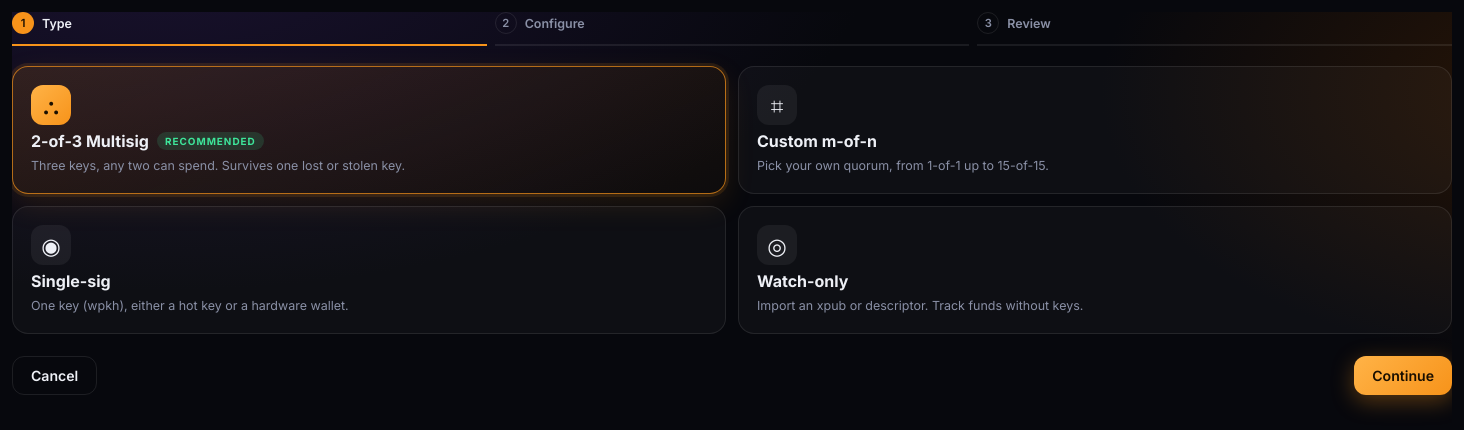
Test: CreateWalletWizard › watch-only detects descriptor vs xpub
Click the radio button with test id "type-watchonly": (777, 245) [738,206,1452,334]
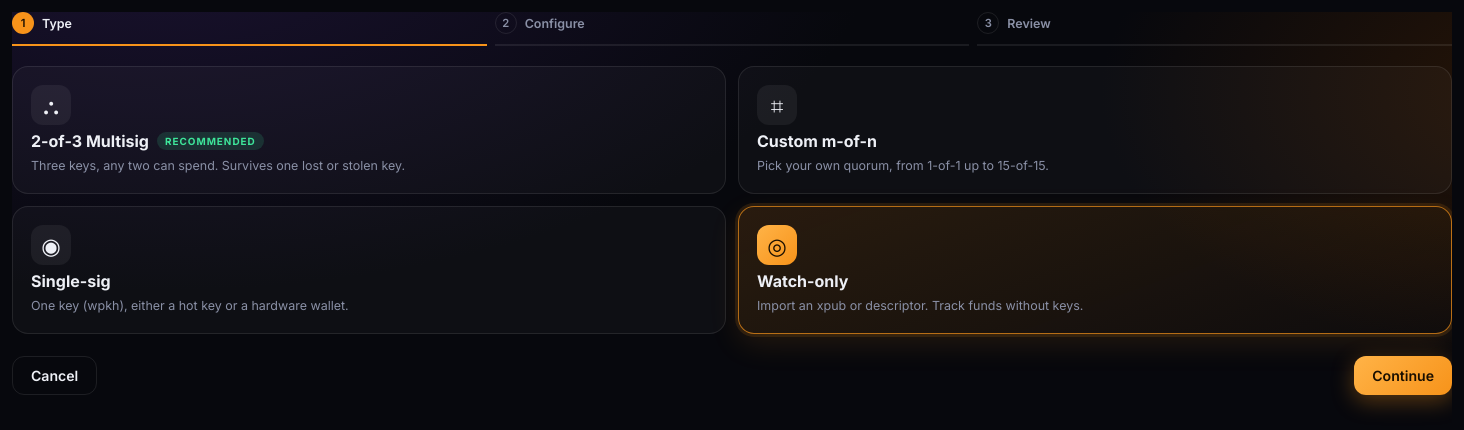
Click the button "Continue": (1403, 376) [1354,356,1452,395]
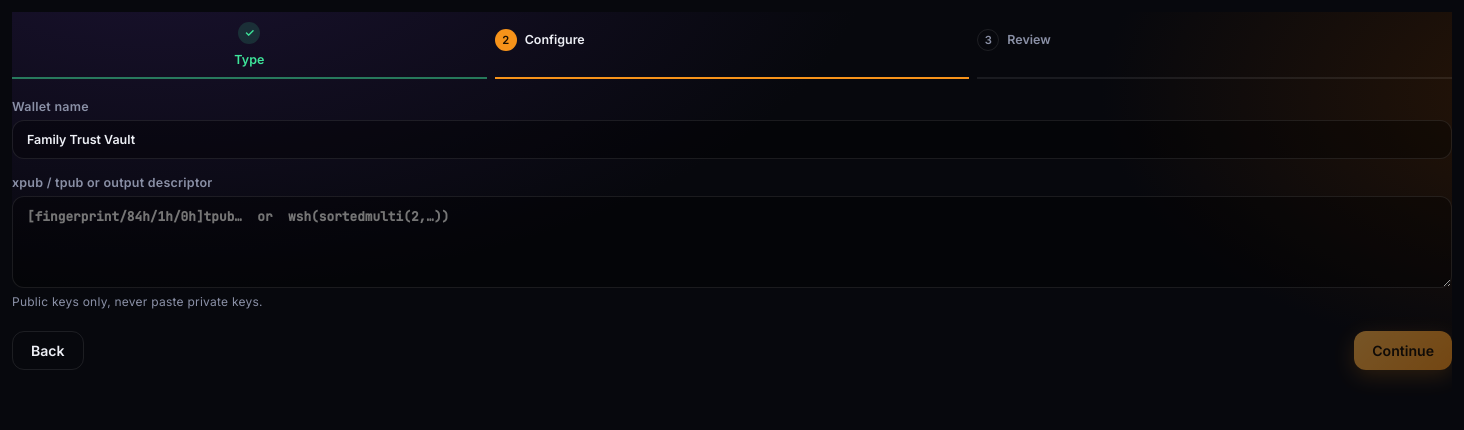
In the text box with placeholder "[fingerprint/84h/1h/0h]tpub… or wsh(sortedmulti(2,…))": (732, 242) [12,196,1452,288], type "wsh(sortedmulti(2,tpubAAAAAAAAAAAAAAAAAAAA))"
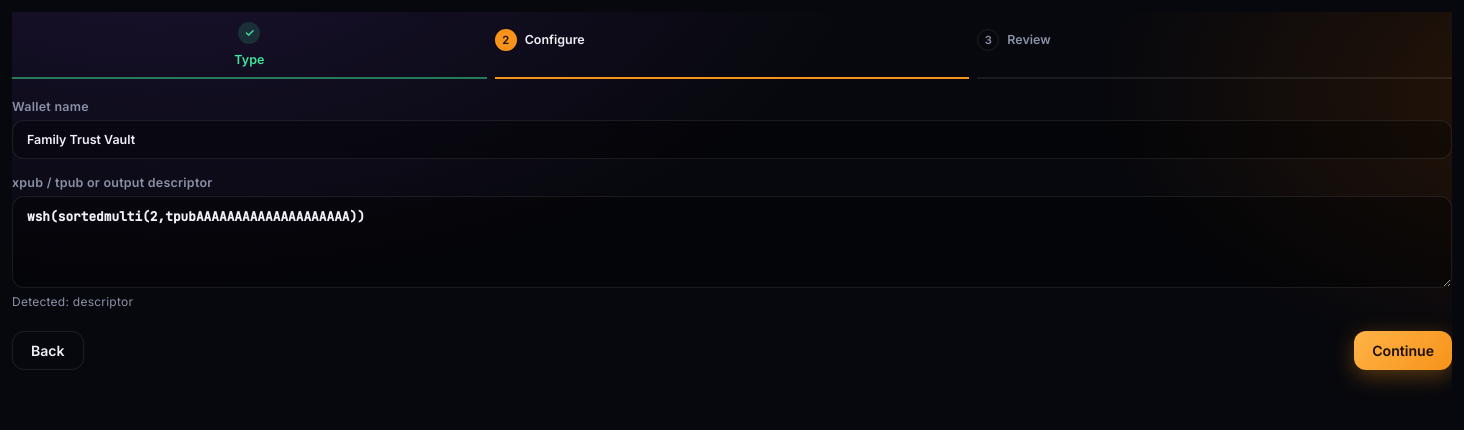
Result: the text "Detected: descriptor" is shown at [12,294,133,309]
Replace the text in the text box with placeholder "[fingerprint/84h/1h/0h]tpub… or wsh(sortedmulti(2,…))" with "tpubDCaQ77ij4oNpPRrPEbp6BAhuvU3fQ9S584zD33": (732, 242) [12,196,1452,288]
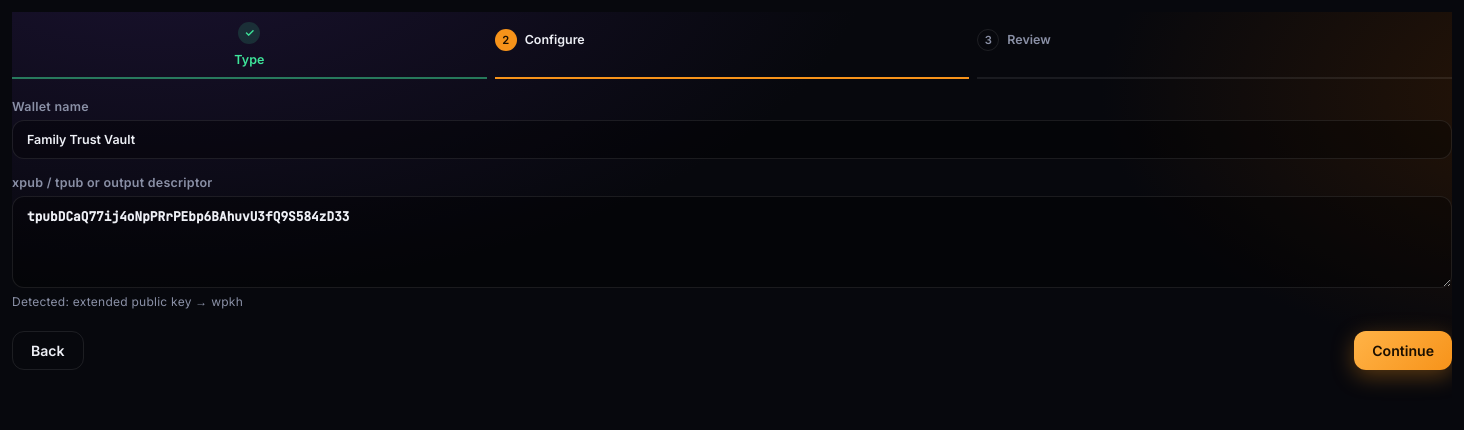
Result: the text "Detected: extended public key → wpkh" is shown at [12,294,243,309]
